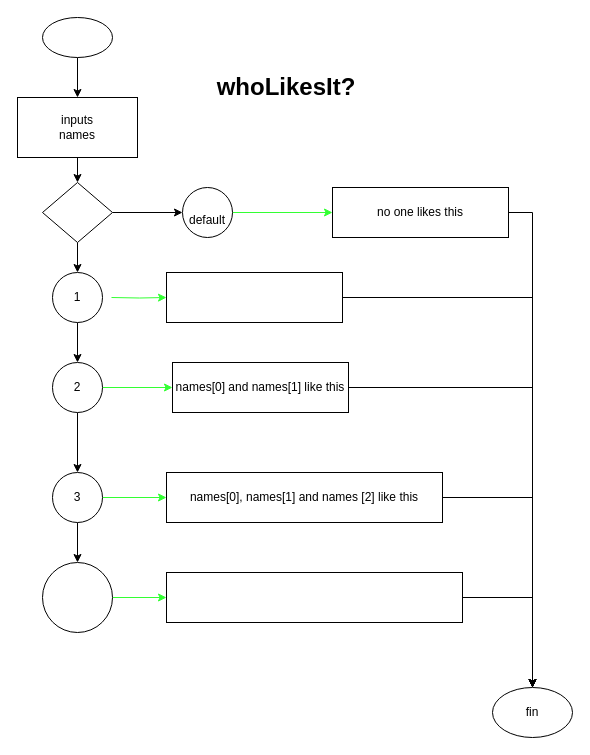
The diagram is 590 pixels wide and 755 high, and some of its shapes have lost their labels. Here are the shapes that lost their labels. From the top down, the box of each, then its label:
(42, 16, 112, 58): Inicio
(42, 182, 112, 242): true?
(166, 272, 342, 322): names[1], likes this
(42, 562, 112, 632): names>=4
(166, 572, 462, 622): names[0], names[1] and names.length - 2 like this
